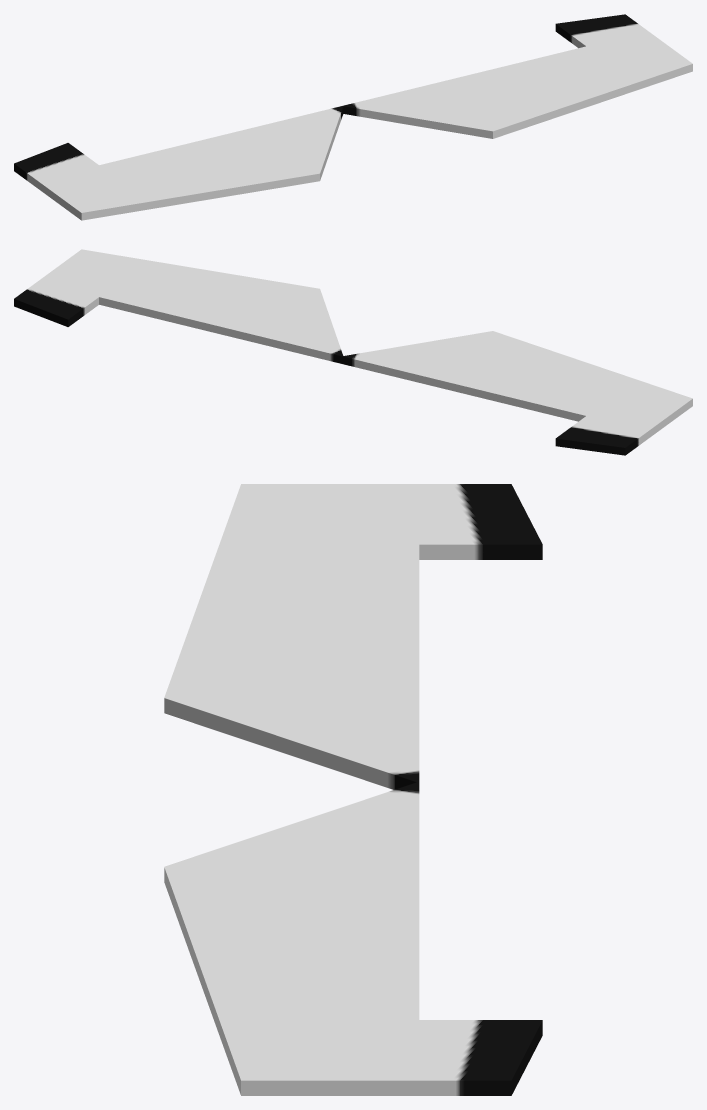
The model's file is Elevator.glb.
The picture shows the model from 3 angles, top to bottom: view 1: azimuth 30°, elevation 25°; view 2: azimuth 150°, elevation 25°; view 3: azimuth 270°, elevation 25°; orthographic projection. The views are drawn at different scales.
Parts seen in each view (by area): view 1: Elevator; view 2: Elevator; view 3: Elevator.
Boxes of the visible parts, x1,y1,x2,y2 form: Elevator: (14,14,692,220); Elevator: (14,249,692,455); Elevator: (164,484,542,1095).
Bounding box in the file's own units: 0.8377 × 0.01 × 0.2246.
Materials: 1 (1 with a texture image).
